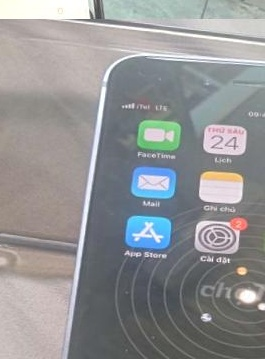scratch: (85, 264, 198, 359), (144, 66, 165, 81)
